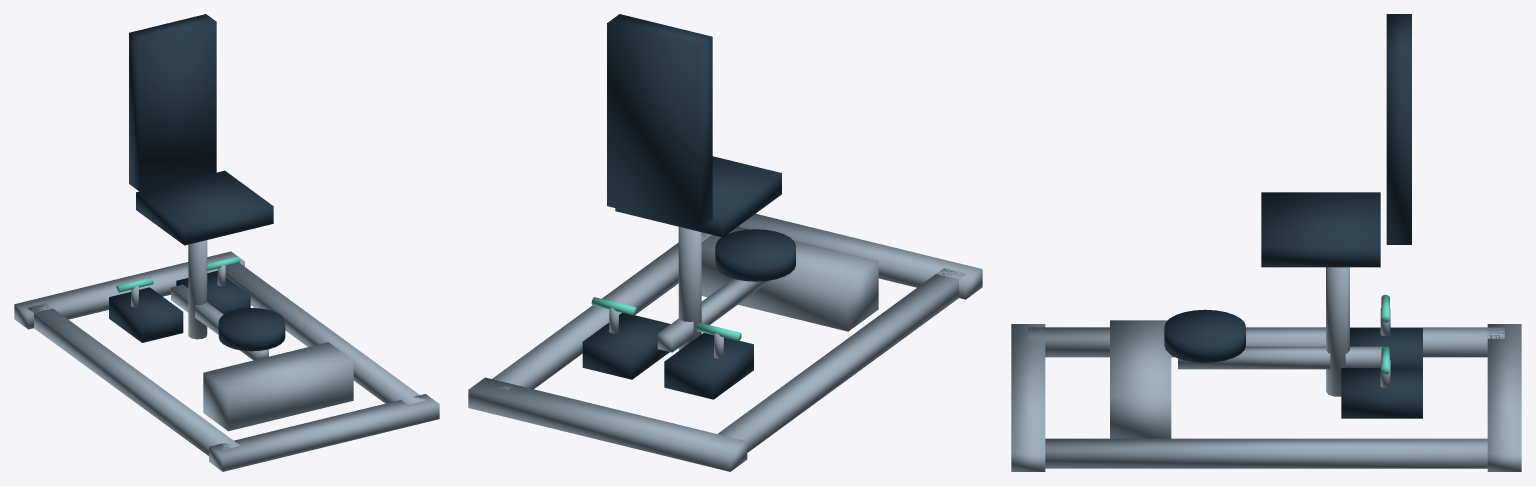
File: machine_b_seated_calf_raise.glb
3 renders of one model, left to right at view 1: azimuth 30°, elevation 25°; view 2: azimuth 150°, elevation 25°; view 3: azimuth 270°, elevation 25°, orthographic. The views are drawn at different scales.
Visible parts, largest first — view 1: base, back_pad, forefoot_platform, seat, pads, weight, seat_post, weight_arm; view 2: base, back_pad, forefoot_platform, pads, seat, weight, seat_post, weight_arm; view 3: base, seat, forefoot_platform, pads, back_pad, weight, weight_arm, seat_post.
Boxes of the visible parts, x1,y1,x2,y2 form: base: [14, 251, 439, 471]; back_pad: [129, 14, 216, 191]; forefoot_platform: [203, 342, 353, 431]; seat: [136, 170, 273, 245]; pads: [109, 271, 250, 342]; weight: [218, 308, 285, 351]; seat_post: [188, 240, 207, 339]; weight_arm: [171, 284, 268, 360]; base: [468, 213, 982, 471]; back_pad: [607, 14, 712, 228]; forefoot_platform: [701, 226, 878, 331]; pads: [582, 313, 753, 399]; seat: [615, 156, 781, 237]; weight: [715, 229, 795, 281]; seat_post: [678, 227, 701, 350]; weight_arm: [657, 278, 770, 352]; base: [1011, 324, 1521, 471]; seat: [1261, 192, 1380, 267]; forefoot_platform: [1110, 320, 1171, 438]; pads: [1341, 328, 1422, 418]; back_pad: [1386, 14, 1411, 244]; weight: [1164, 309, 1245, 362]; weight_arm: [1178, 346, 1388, 369]; seat_post: [1326, 267, 1349, 396].
Size of the model in its own units: 0.9 by 1.2 by 1.5.
